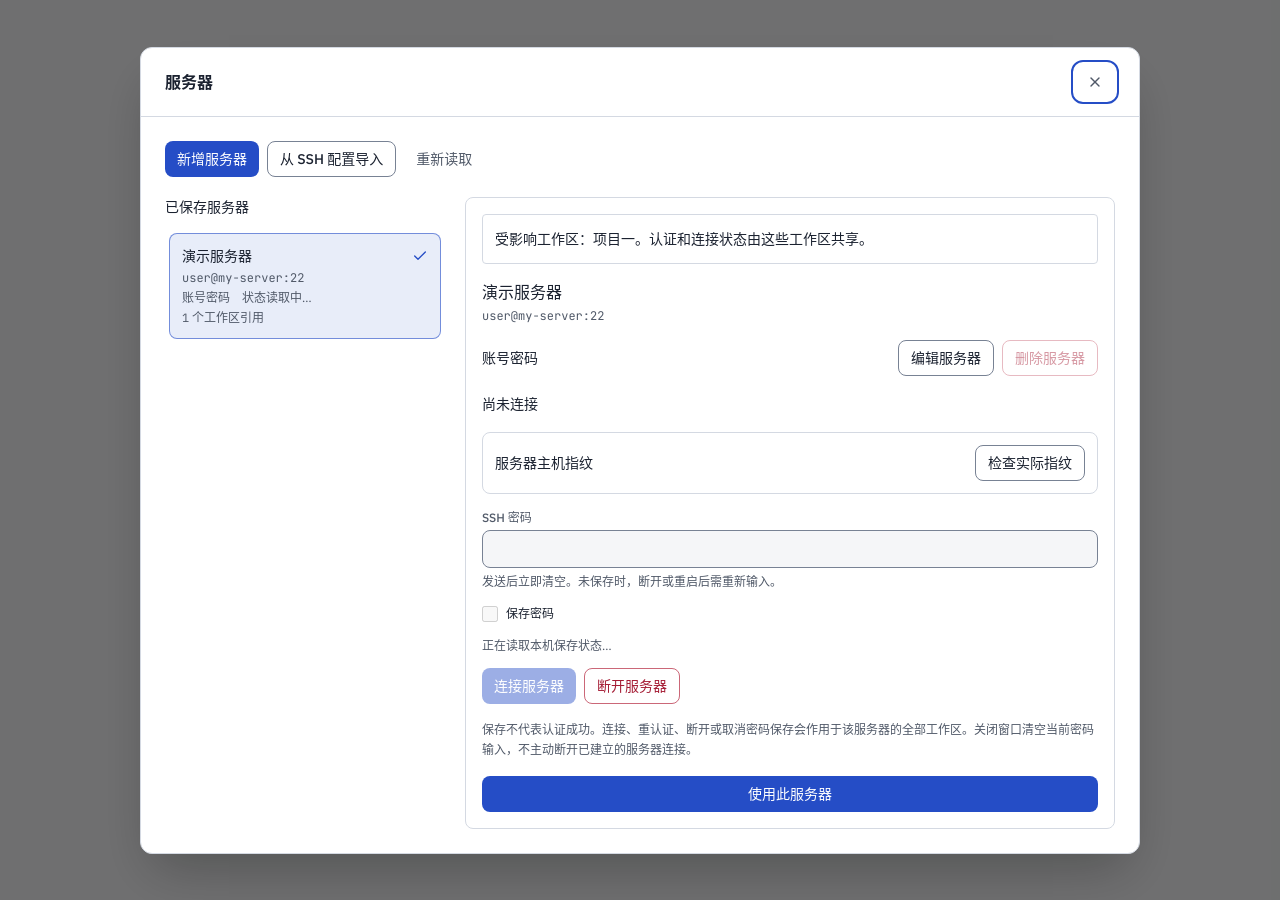
引用中的身份字段不可修改，编辑携带旧快照，409保留草稿
The image size is (1280, 900).
Click the button "编辑服务器".
click(946, 358)  # box x1=898 y1=340 x2=994 y2=376
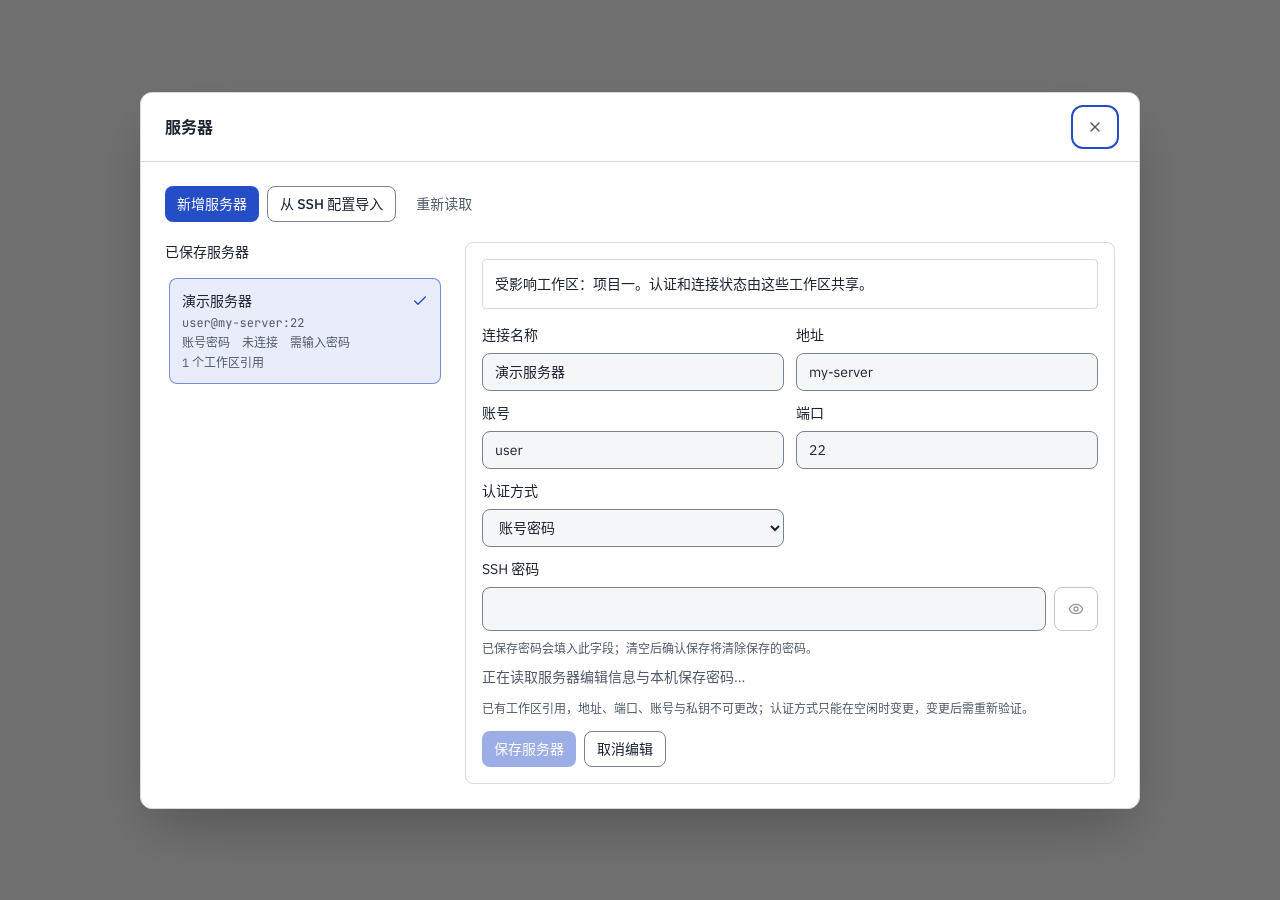
Check: the field labelled "地址" is disabled, box x1=796 y1=352 x2=1098 y2=390
Check: the field labelled "账号" is disabled, box x1=482 y1=430 x2=784 y2=468
Replace the text in the field labelled "连接名称" with "重命名" at (633, 372), box x1=482 y1=352 x2=784 y2=390
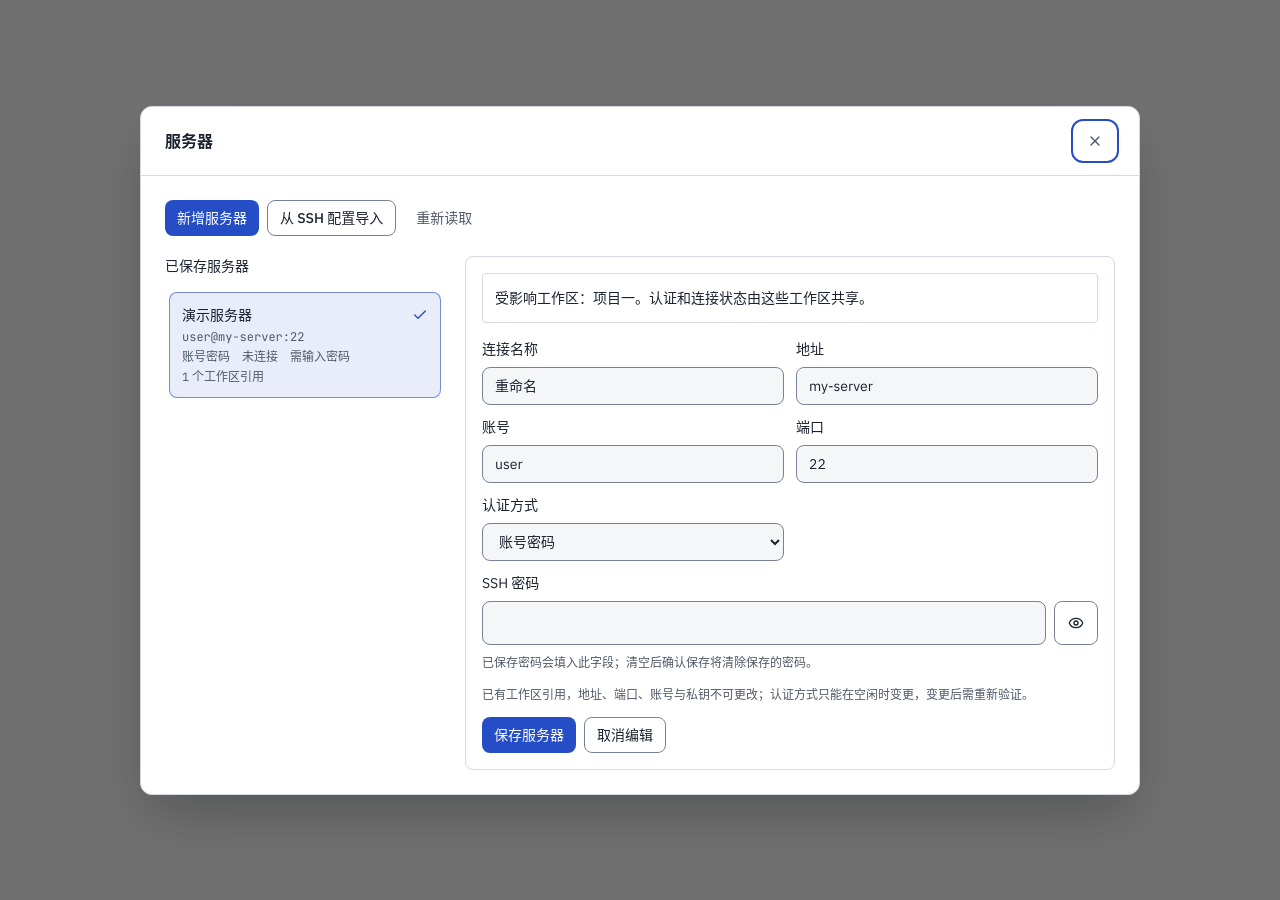
Check: the button "保存服务器" is enabled
Click the button "保存服务器".
click(529, 734)  # box x1=482 y1=716 x2=576 y2=752
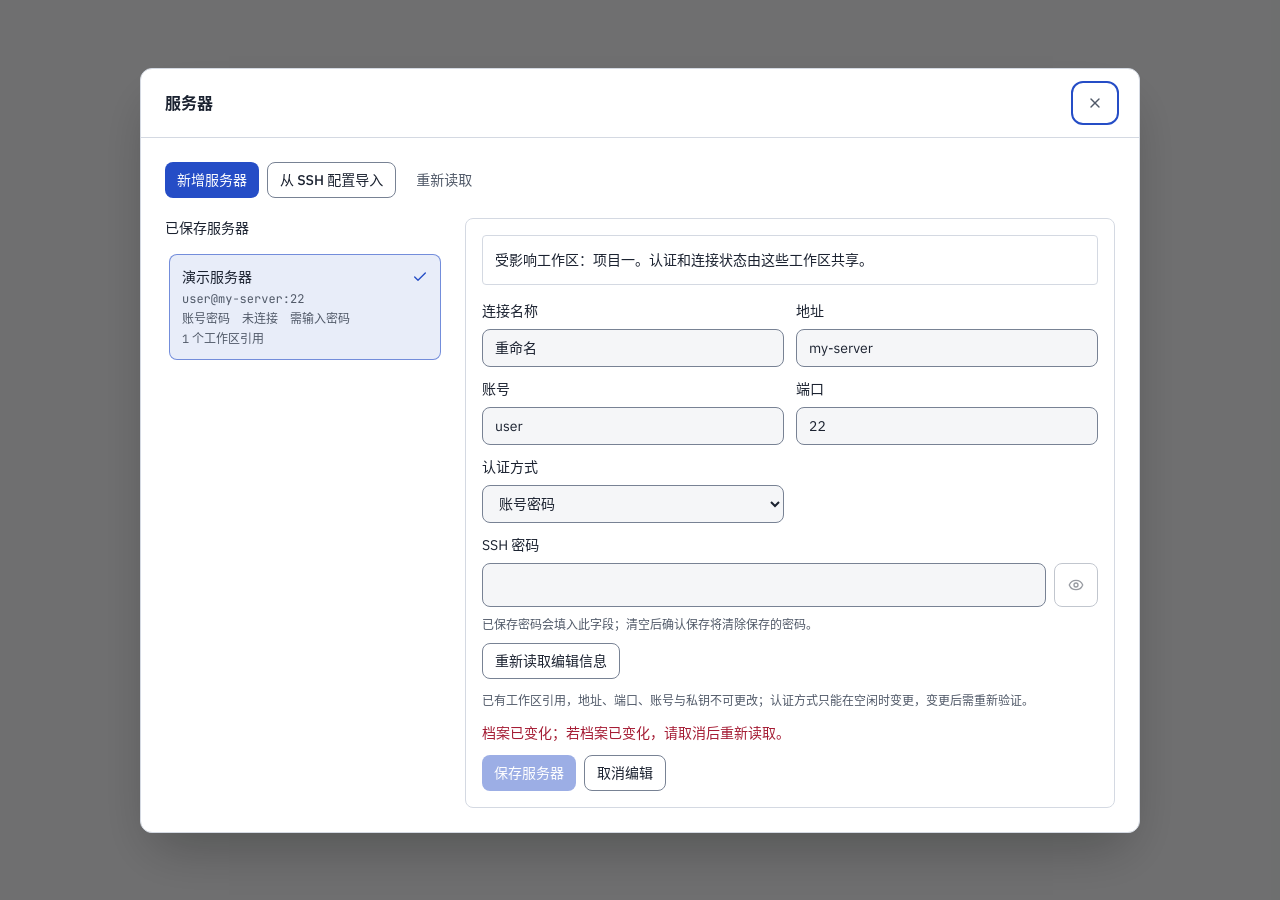
Check: the message "档案已变化；若档案已变化，请取消后重新读取。" is shown, box x1=482 y1=724 x2=790 y2=742
